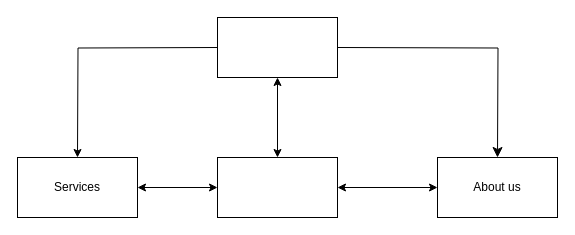
Some shapes in this 575 by 235 pixel diagram are drawn without their labels. The shapes that lost their labels are listed below. From the top down, each one's centre as x and y in pixels, then its label:
pixel 277 47: Home Page
pixel 277 187: Projects
